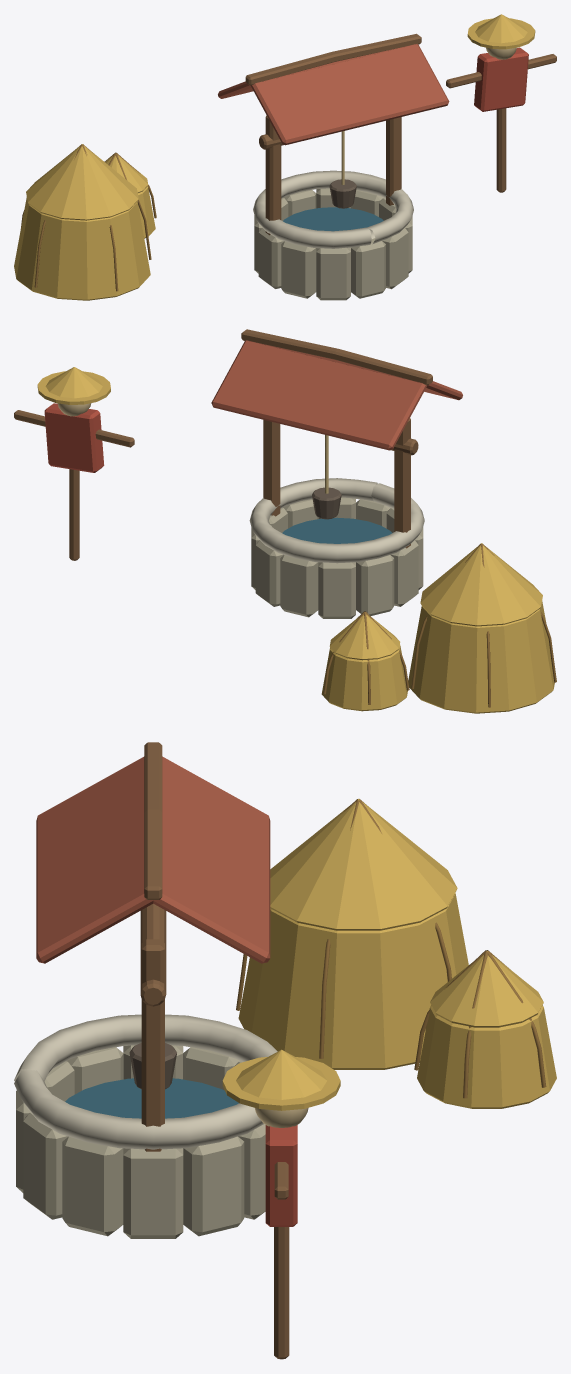
The model's file is farm_well.glb.
3 renders of one model, top to bottom at view 1: azimuth 30°, elevation 25°; view 2: azimuth 150°, elevation 25°; view 3: azimuth 270°, elevation 25°, orthographic. The views are drawn at different scales.
Visible parts, largest first — view 1: Pigment_ceac56, Pigment_a65b45, Pigment_aba58e, Pigment_826041, Pigment_c7c0ac, Pigment_ab4f3e, Pigment_3c6675, Pigment_94713d, Pigment_66594c; view 2: Pigment_ceac56, Pigment_a65b45, Pigment_aba58e, Pigment_826041, Pigment_c7c0ac, Pigment_ab4f3e, Pigment_3c6675, Pigment_94713d, Pigment_66594c; view 3: Pigment_ceac56, Pigment_a65b45, Pigment_aba58e, Pigment_c7c0ac, Pigment_826041, Pigment_3c6675, Pigment_94713d, Pigment_ab4f3e, Pigment_66594c, Pigment_ccb68a.
Part boxes in pixels (x1=…): Pigment_ceac56: x1=14, y1=14, x2=535, y2=300; Pigment_a65b45: x1=218, y1=44, x2=449, y2=145; Pigment_aba58e: x1=254, y1=188, x2=412, y2=300; Pigment_826041: x1=245, y1=33, x2=556, y2=235; Pigment_c7c0ac: x1=253, y1=170, x2=413, y2=248; Pigment_ab4f3e: x1=474, y1=47, x2=528, y2=111; Pigment_3c6675: x1=283, y1=207, x2=383, y2=231; Pigment_94713d: x1=21, y1=144, x2=156, y2=291; Pigment_66594c: x1=329, y1=179, x2=356, y2=208; Pigment_ceac56: x1=37, y1=367, x2=554, y2=713; Pigment_a65b45: x1=211, y1=340, x2=462, y2=450; Pigment_aba58e: x1=251, y1=497, x2=423, y2=618; Pigment_826041: x1=14, y1=329, x2=432, y2=560; Pigment_c7c0ac: x1=249, y1=478, x2=424, y2=563; Pigment_ab4f3e: x1=44, y1=403, x2=104, y2=472; Pigment_3c6675: x1=282, y1=517, x2=392, y2=543; Pigment_94713d: x1=323, y1=543, x2=556, y2=707; Pigment_66594c: x1=312, y1=487, x2=341, y2=519; Pigment_ceac56: x1=222, y1=798, x2=556, y2=1110; Pigment_a65b45: x1=36, y1=756, x2=270, y2=963; Pigment_aba58e: x1=16, y1=1045, x2=265, y2=1238; Pigment_c7c0ac: x1=14, y1=1014, x2=277, y2=1149; Pigment_826041: x1=140, y1=742, x2=289, y2=1359; Pigment_3c6675: x1=65, y1=1078, x2=238, y2=1118; Pigment_94713d: x1=236, y1=799, x2=546, y2=1098; Pigment_ab4f3e: x1=265, y1=1125, x2=297, y2=1226; Pigment_66594c: x1=129, y1=1043, x2=176, y2=1089; Pigment_ccb68a: x1=255, y1=1108, x2=308, y2=1127.
Bounding box in the file's own units: 7.96 × 3.22 × 4.23.
